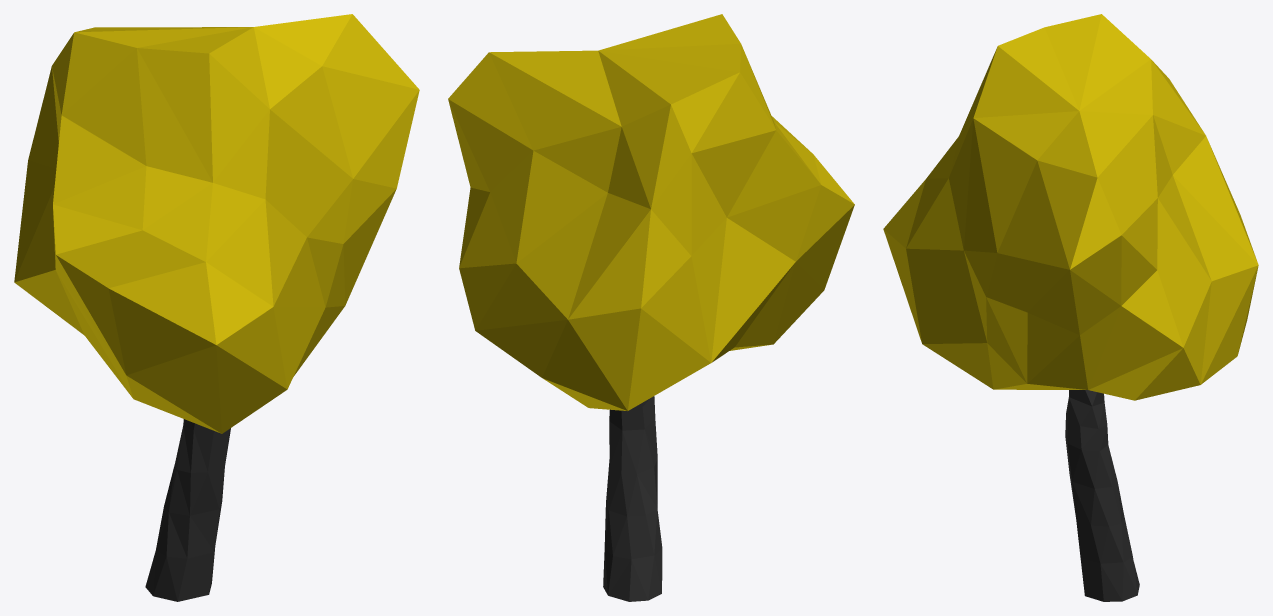
File: Usa_Tree.glb
The picture shows the model from 3 angles, left to right: view 1: azimuth 30°, elevation 25°; view 2: azimuth 150°, elevation 25°; view 3: azimuth 270°, elevation 25°; orthographic projection. The views are drawn at different scales.
Visible parts, largest first — view 1: USA_Tree; view 2: USA_Tree; view 3: USA_Tree.
Boxes of the visible parts, box(x1,y1,x2,y2) form: USA_Tree: box(14, 14, 419, 601); USA_Tree: box(448, 14, 854, 601); USA_Tree: box(883, 14, 1258, 601).
Bounding box in the file's own units: 1.2 × 1.69 × 1.09.
Materials: 1 (1 with a texture image).
